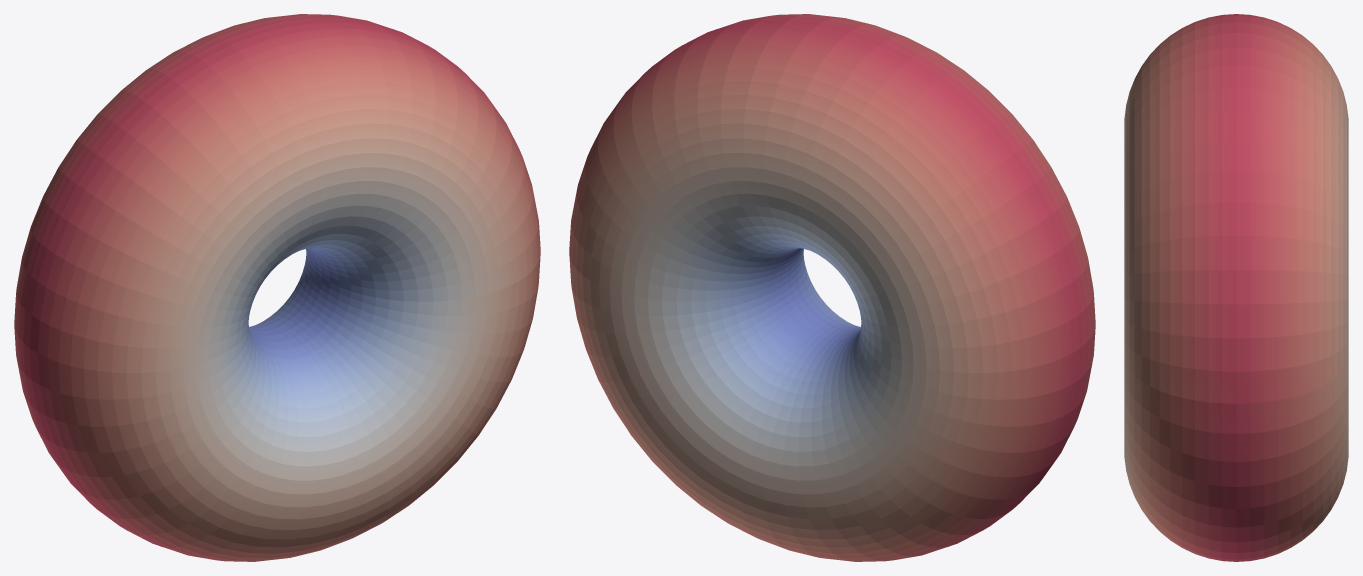
The picture shows the model from 3 angles, left to right: view 1: azimuth 30°, elevation 25°; view 2: azimuth 150°, elevation 25°; view 3: azimuth 270°, elevation 25°; orthographic projection. The views are drawn at different scales.
Parts seen in each view (by area): view 1: world; view 2: world; view 3: world.
Part boxes in pixels (left/top/right/bottom): world: left=14, top=14, right=540, bottom=561; world: left=569, top=14, right=1095, bottom=561; world: left=1124, top=14, right=1348, bottom=561.
Bounding box in the file's own units: 23.73 × 23.69 × 9.71.
